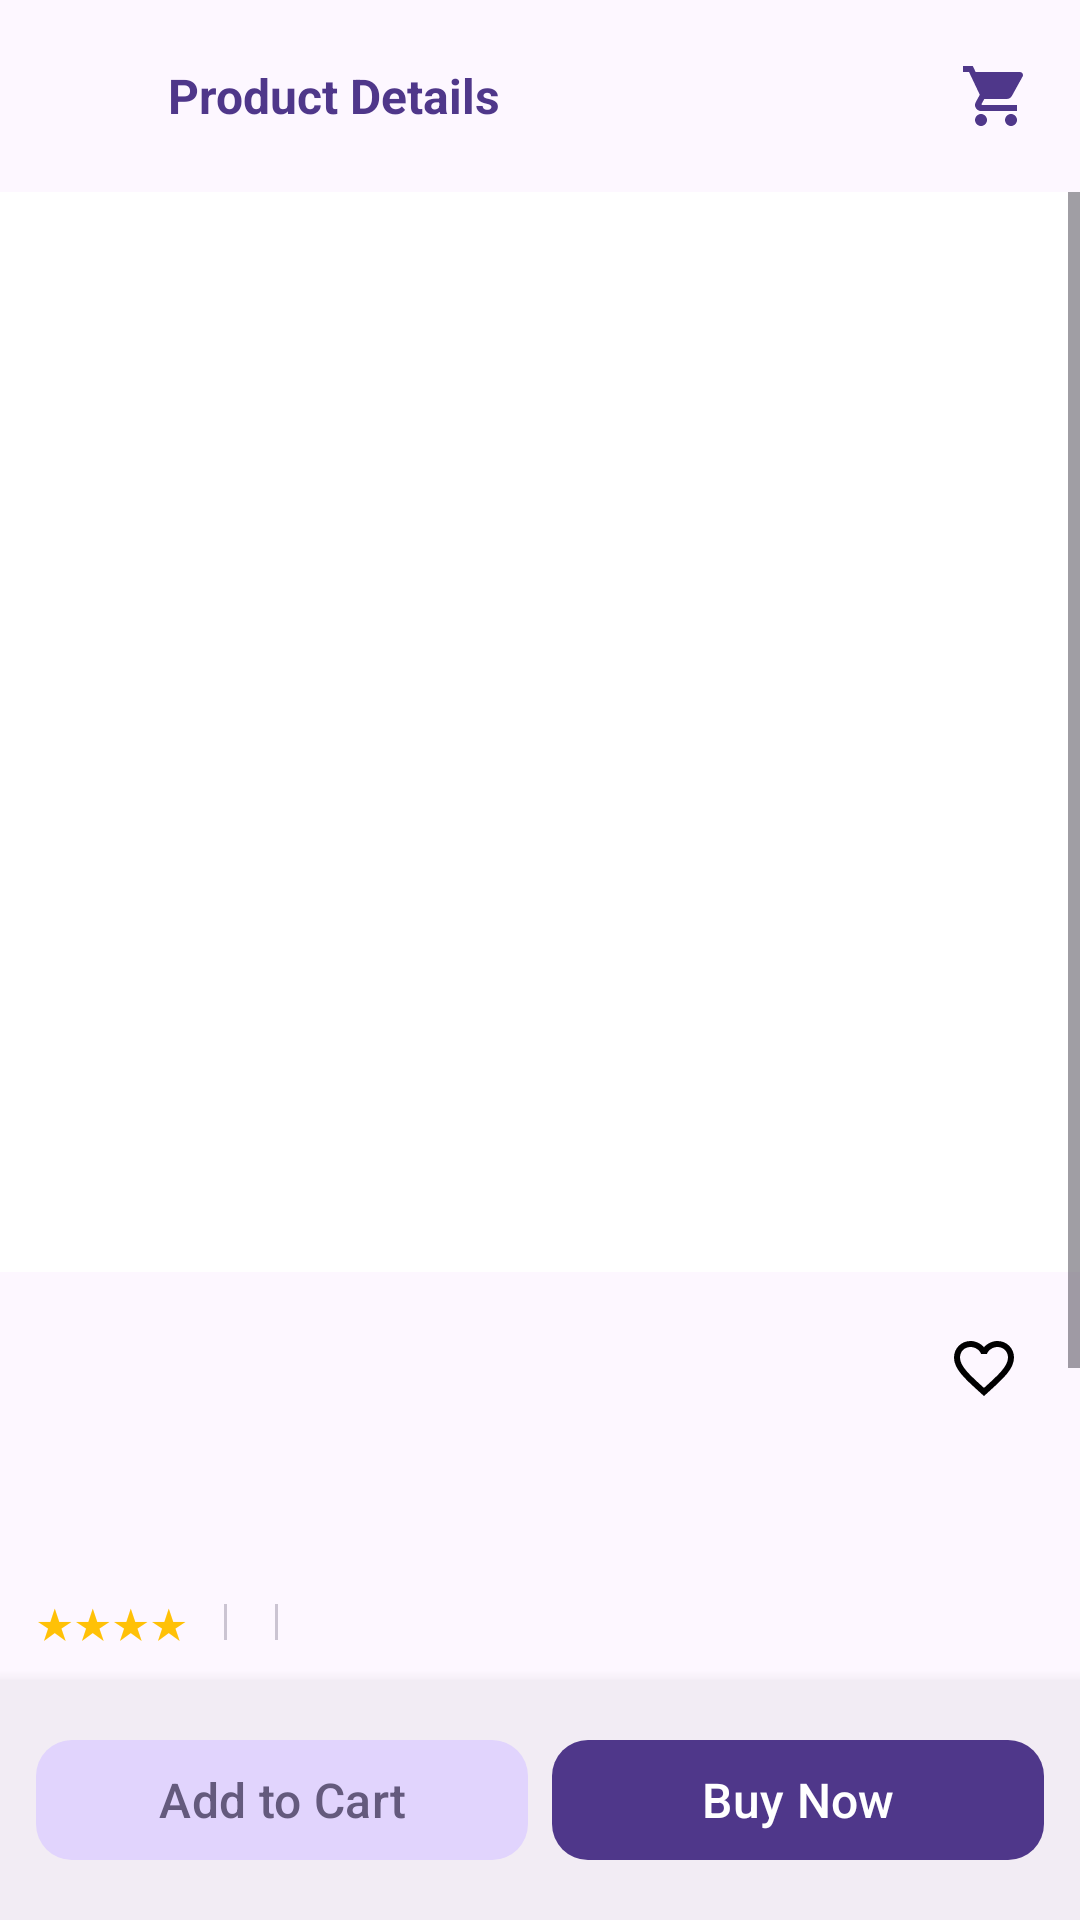

Named icons in this screenshot (1080px×1920px) and their bounding boxes, (x1, y1, x2, y2):
Cart: (963, 66, 1023, 126)
Favorite: (954, 1341, 1014, 1396)
